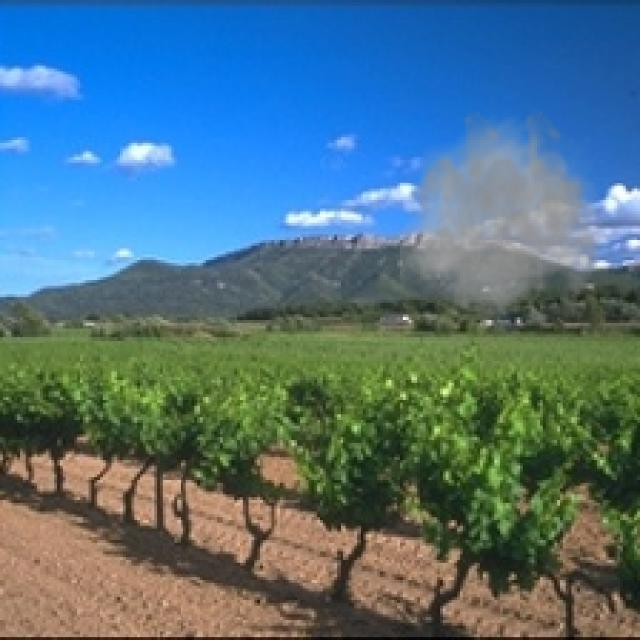Smoke: (400, 106, 617, 326)
